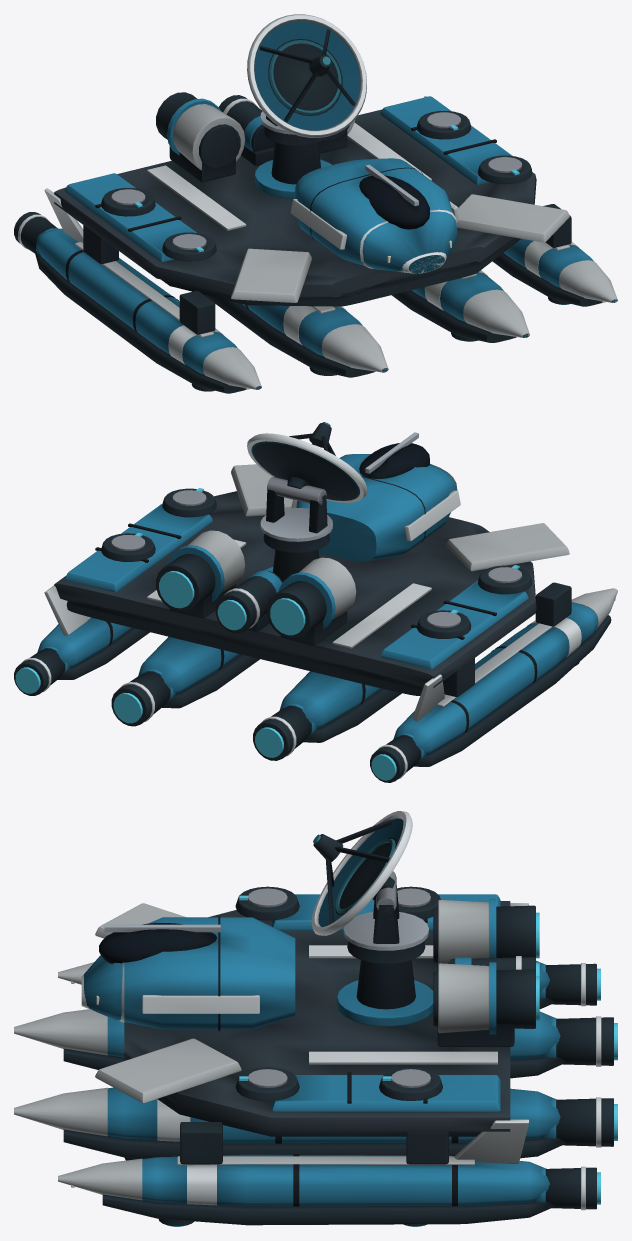
File: ex_skiff_10.glb
3 renders of one model, top to bottom at view 1: azimuth 30°, elevation 25°; view 2: azimuth 150°, elevation 25°; view 3: azimuth 270°, elevation 25°, orthographic. The views are drawn at different scales.
Parts seen in each view (by area): view 1: body, fan_0; view 2: body, fan_0; view 3: body, fan_0.
Part boxes in pixels (x1,y1,x2,y2): body: (14,92,617,393); fan_0: (247,14,366,145); body: (14,432,617,782); fan_0: (247,422,366,552); body: (14,886,617,1226); fan_0: (311,811,428,963).
Bounding box in the file's own units: 10.71 × 6.47 × 11.83.
